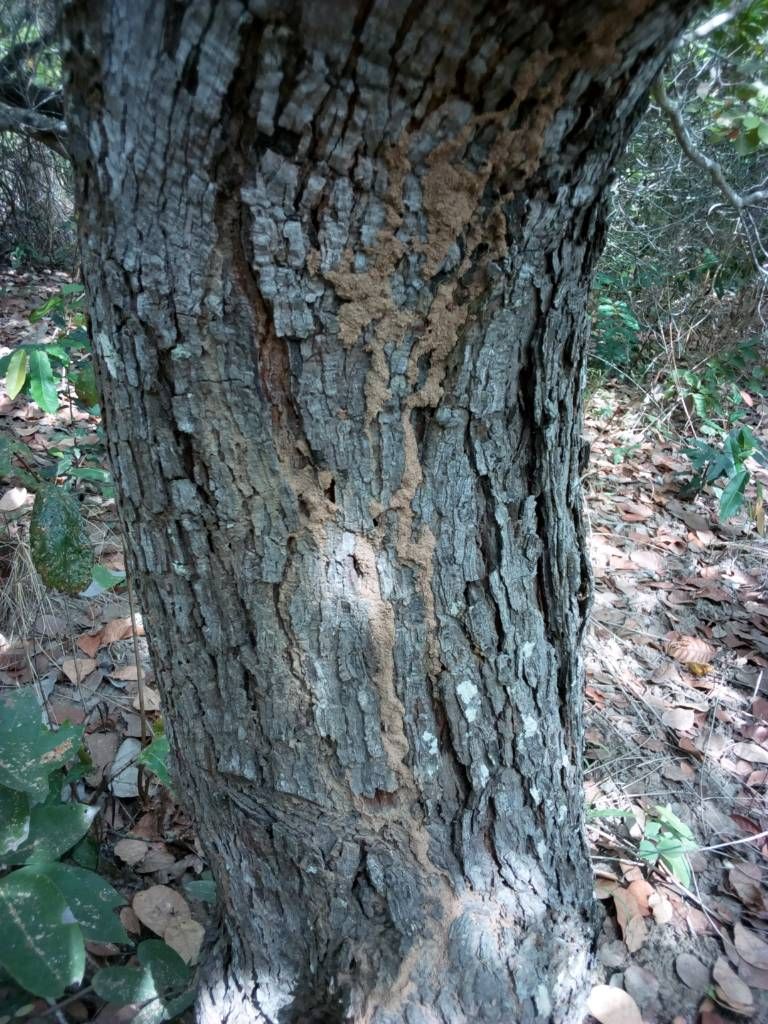Termites: (254, 61, 591, 1010)
